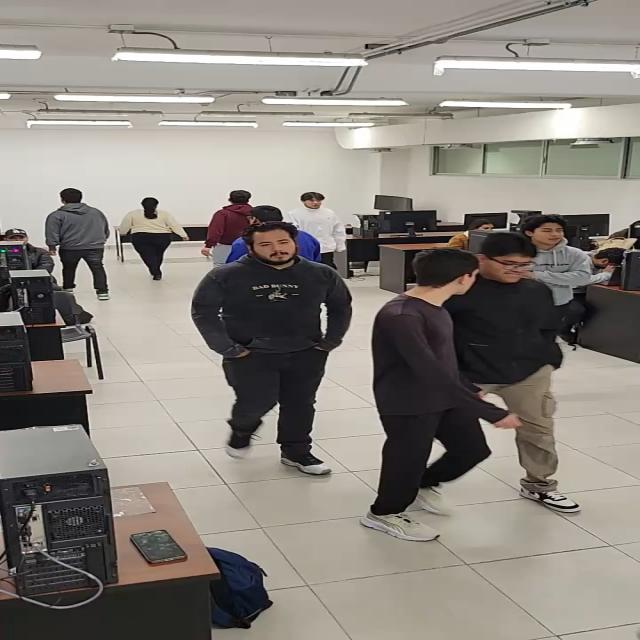Persona: (358, 249, 521, 544), (432, 232, 584, 516), (190, 221, 352, 477), (511, 215, 594, 336), (44, 188, 115, 301), (115, 197, 193, 282), (280, 190, 351, 270), (199, 188, 263, 268)
